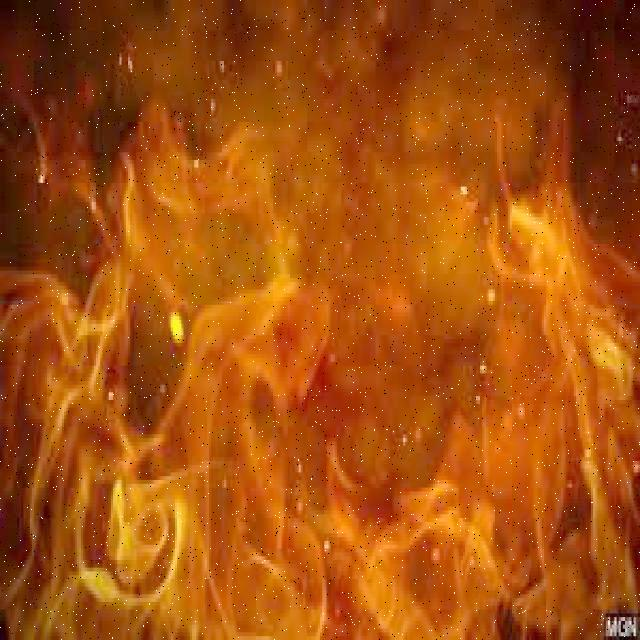fire: (14, 101, 640, 640)
